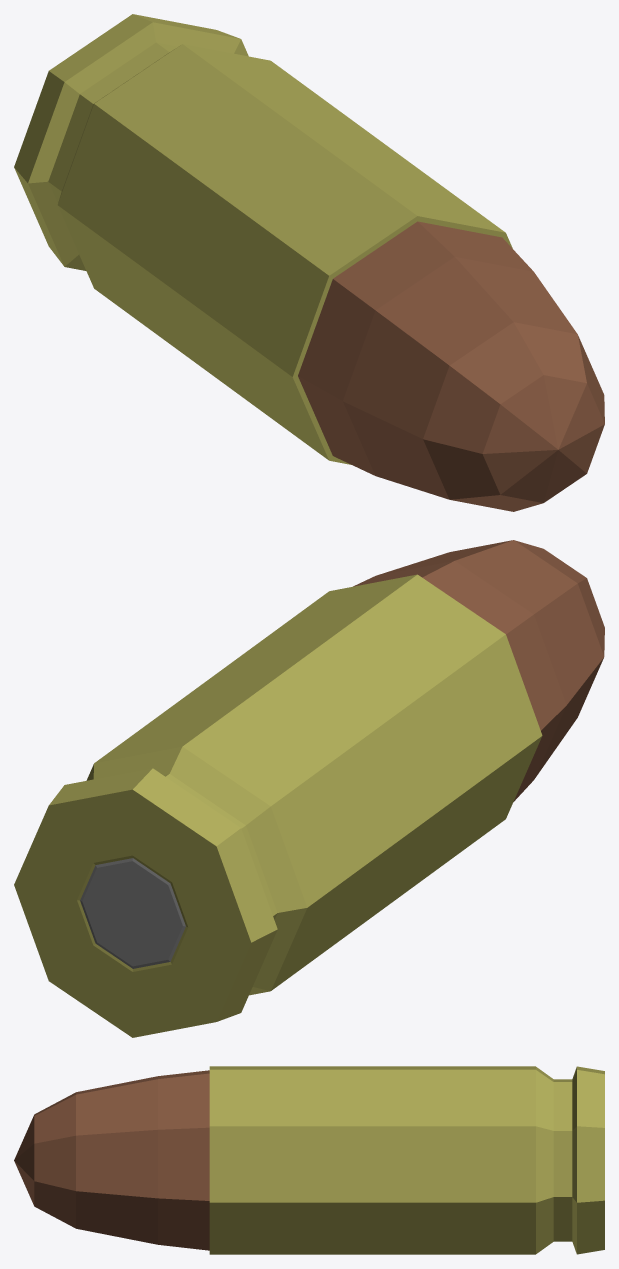
The model's file is 9mm_bullet.fbx.
The picture shows the model from 3 angles, top to bottom: view 1: azimuth 30°, elevation 25°; view 2: azimuth 150°, elevation 25°; view 3: azimuth 270°, elevation 25°; orthographic projection. The views are drawn at different scales.
Visible parts, largest first — view 1: 9mm_casing, 9mm_bullet; view 2: 9mm_casing, 9mm_bullet, 9mm_primer; view 3: 9mm_casing, 9mm_bullet.
Boxes of the visible parts, box(x1,y1,x2,y2) form: 9mm_casing: box(14, 14, 512, 464); 9mm_bullet: box(298, 221, 604, 511); 9mm_casing: box(14, 574, 542, 1037); 9mm_bullet: box(353, 540, 604, 801); 9mm_primer: box(80, 858, 185, 968); 9mm_casing: box(209, 1066, 604, 1254); 9mm_bullet: box(14, 1070, 209, 1250).
Bounding box in the file's own units: 27.47 × 27.47 × 81.08.
